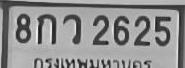2: (92, 14, 108, 44), (133, 15, 149, 45)
5: (154, 15, 170, 46)
6: (113, 15, 128, 45)
8: (15, 13, 30, 42)
A01: (36, 13, 56, 44)
A37: (62, 13, 80, 44)
BKK: (31, 54, 153, 68)
